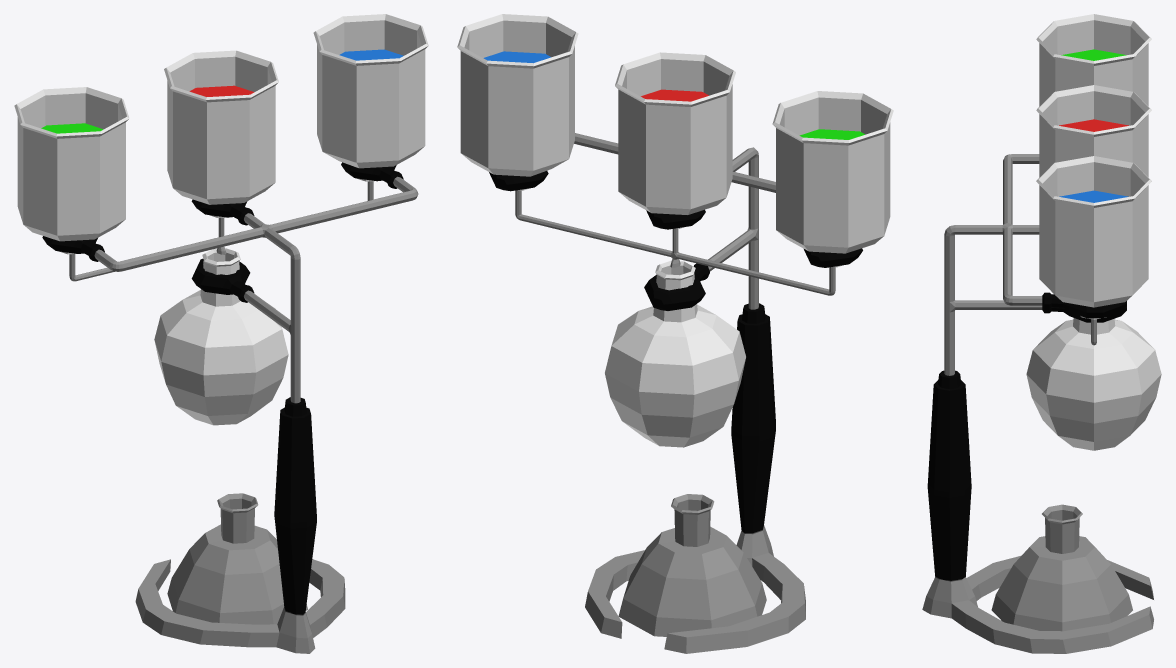
Rendered from Crafting .fbx.
The picture shows the model from 3 angles, left to right: view 1: azimuth 30°, elevation 25°; view 2: azimuth 150°, elevation 25°; view 3: azimuth 270°, elevation 25°; orthographic projection. The views are drawn at different scales.
Parts seen in each view (by area): view 1: Cylinder.006, Cylinder.009; view 2: Cylinder.006, Cylinder.009; view 3: Cylinder.006, Cylinder.009, Cylinder.011, Cylinder.010, Cylinder.012.
Boxes of the visible parts, x1,y1,x2,y2 form: Cylinder.006: (14,14,428,425); Cylinder.009: (42,162,418,653); Cylinder.006: (457,14,893,447); Cylinder.009: (489,133,862,653); Cylinder.006: (1026,14,1161,450); Cylinder.009: (922,154,1153,653); Cylinder.011: (1059,119,1128,131); Cylinder.010: (1059,190,1128,202); Cylinder.012: (1061,49,1126,60).
Bounding box in the file's own units: 116 × 142 × 61.24.
Materials: 6 (2 with a texture image).
